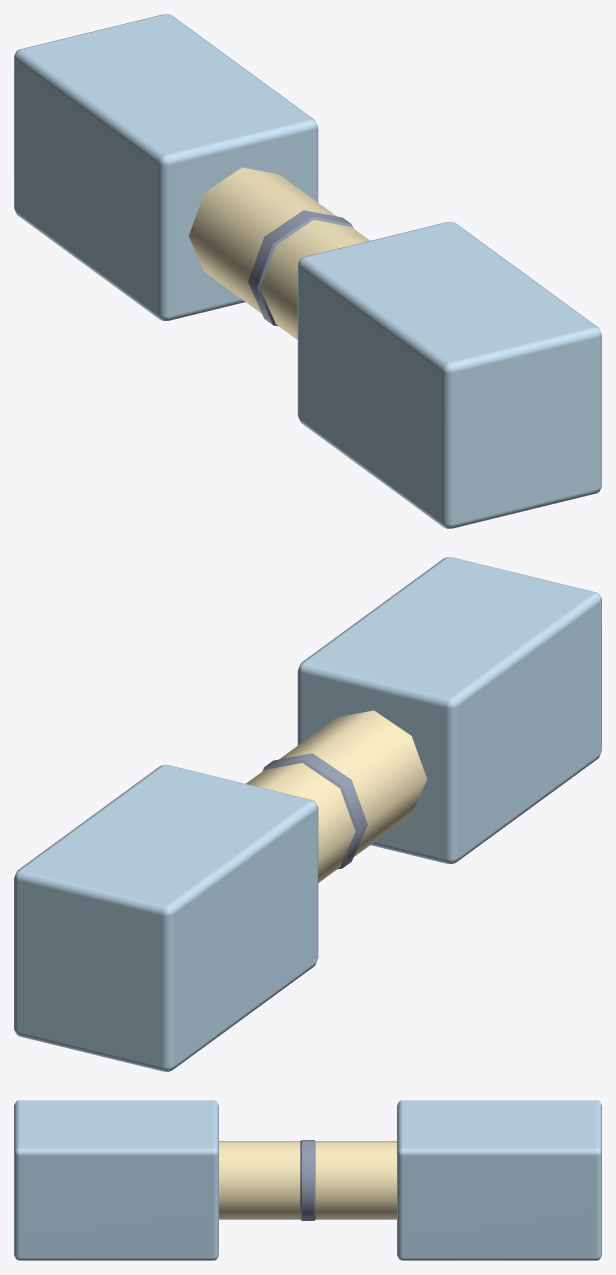
The model's file is R4C_ROD_SHORT.glb.
The picture shows the model from 3 angles, top to bottom: view 1: azimuth 30°, elevation 25°; view 2: azimuth 150°, elevation 25°; view 3: azimuth 270°, elevation 25°; orthographic projection. The views are drawn at different scales.
Parts seen in each view (by area): view 1: R4C_ROD_SHORT; view 2: R4C_ROD_SHORT; view 3: R4C_ROD_SHORT.
Boxes of the visible parts, x1=… form: R4C_ROD_SHORT: x1=14, y1=14, x2=601, y2=528; R4C_ROD_SHORT: x1=14, y1=557, x2=601, y2=1071; R4C_ROD_SHORT: x1=14, y1=1100, x2=601, y2=1260.
Size of the model in its own units: 0.226 by 0.226 by 1.07.
